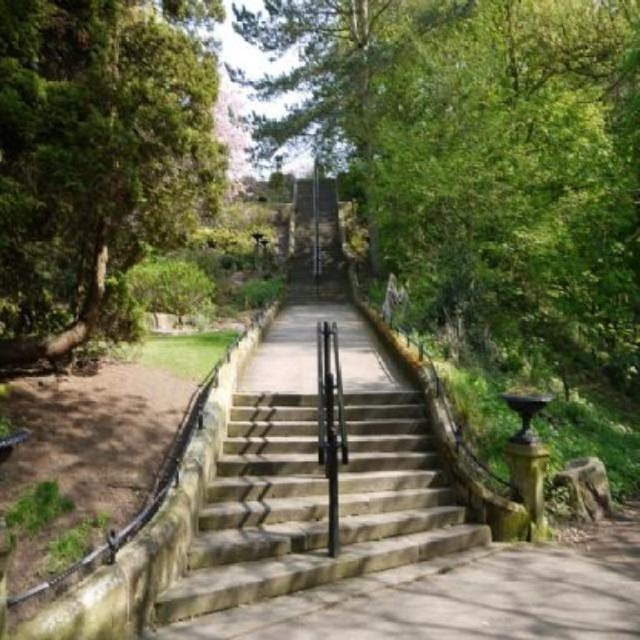stair: (151, 389, 494, 628), (280, 175, 357, 308)
